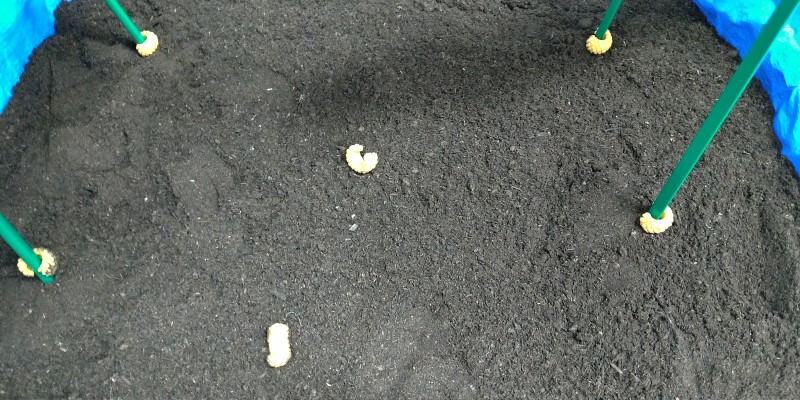eggs: (13, 245, 61, 282), (638, 197, 675, 238), (262, 320, 293, 367), (343, 140, 380, 179), (584, 23, 616, 56), (132, 26, 162, 58)
